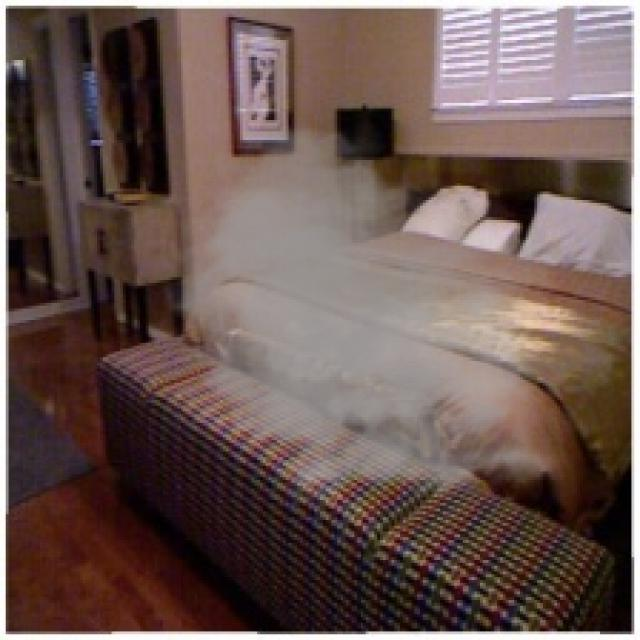smoke: (152, 114, 574, 514)
